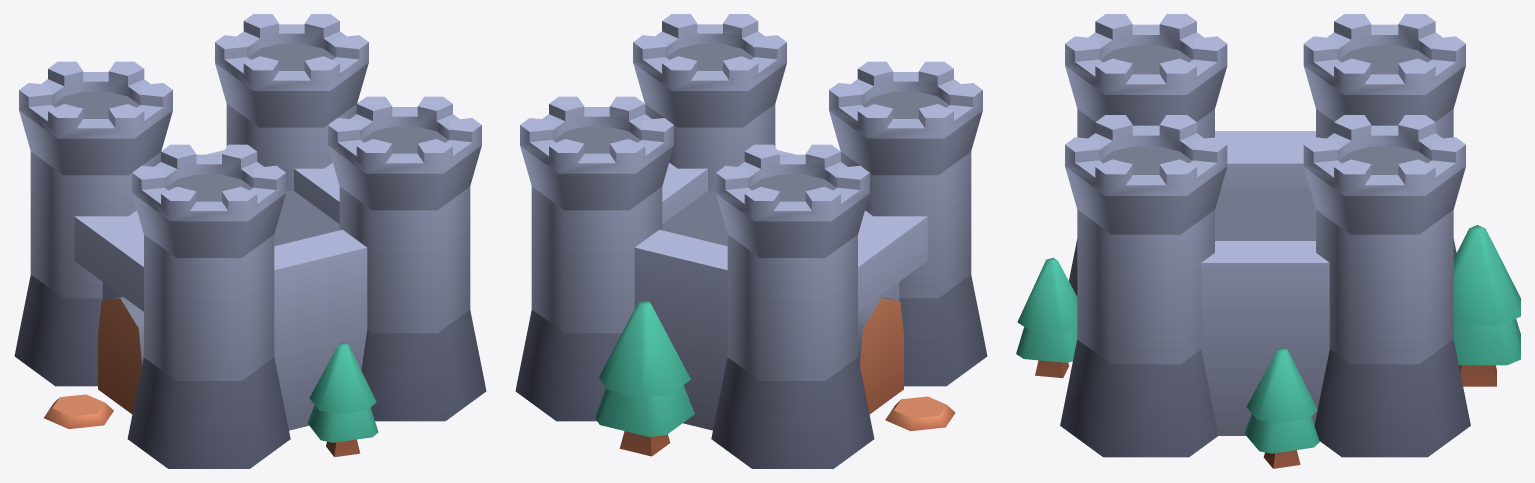
Rendered from castle.fbx.
3 renders of one model, left to right at view 1: azimuth 30°, elevation 25°; view 2: azimuth 150°, elevation 25°; view 3: azimuth 270°, elevation 25°, orthographic. The views are drawn at different scales.
Visible parts, largest first — view 1: building_castle; view 2: building_castle; view 3: building_castle.
Boxes of the visible parts, left/top/right/bottom form: building_castle: left=14, top=14, right=486, bottom=468; building_castle: left=515, top=14, right=987, bottom=468; building_castle: left=1016, top=14, right=1520, bottom=468.
Size of the model in its own units: 93.54 by 59.8 by 97.32.
